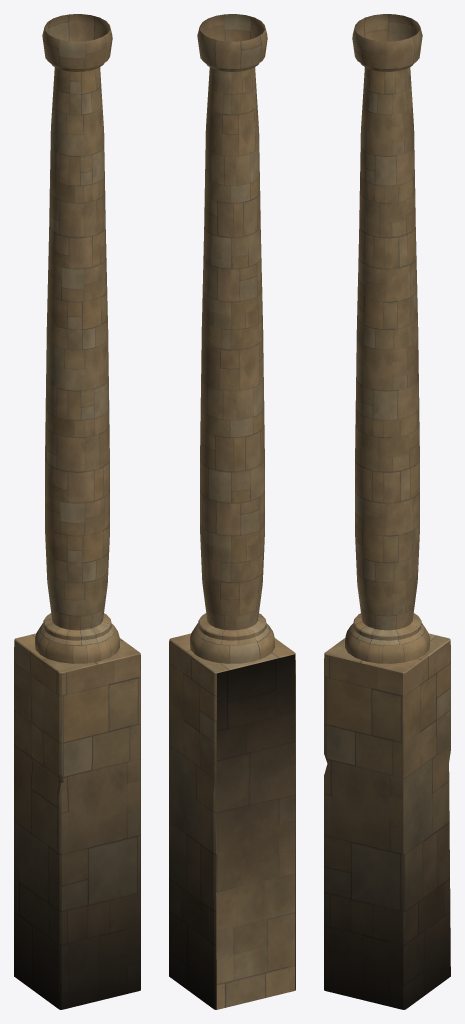
Rendered from AN_COL.fbx.
3 renders of one model, left to right at view 1: azimuth 30°, elevation 25°; view 2: azimuth 210°, elevation 25°; view 3: azimuth 330°, elevation 25°, orthographic.
Parts seen in each view (by area): view 1: AN_COL; view 2: AN_COL; view 3: AN_COL.
Boxes of the visible parts, bbox=[...] form: AN_COL: bbox=[14, 14, 140, 1009]; AN_COL: bbox=[169, 14, 295, 1009]; AN_COL: bbox=[324, 14, 450, 1009].
Size of the model in its own units: 1.1 by 12.32 by 1.1.
Materials: 2 (2 with a texture image).
